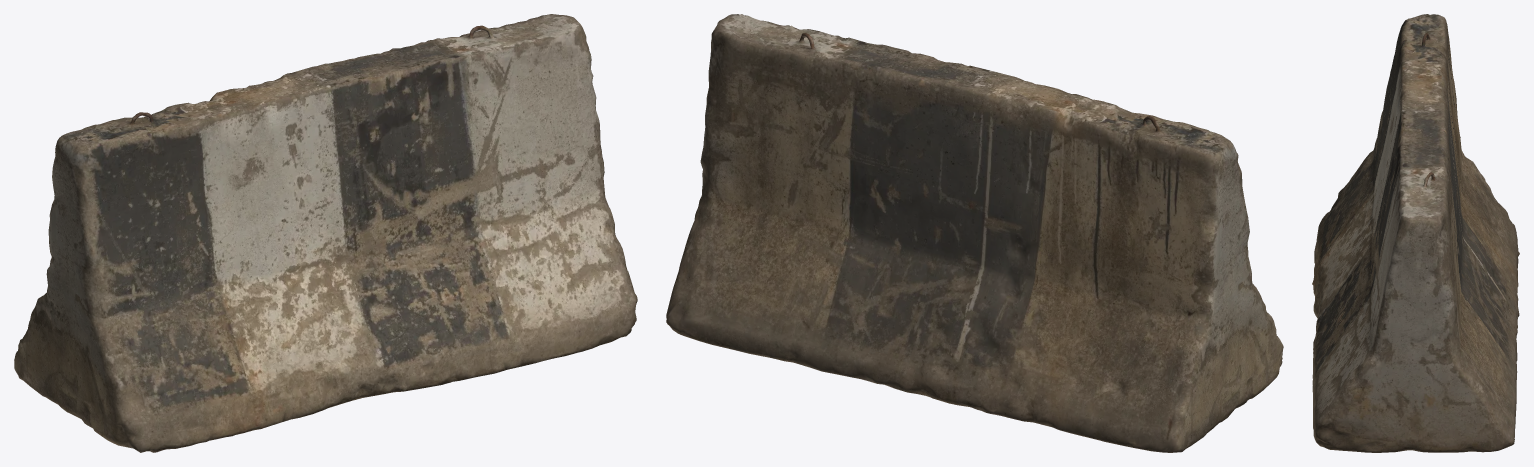
The model's file is ph_concrete_road_barrier.glb.
3 renders of one model, left to right at view 1: azimuth 30°, elevation 25°; view 2: azimuth 150°, elevation 25°; view 3: azimuth 270°, elevation 25°, orthographic. The views are drawn at different scales.
Parts seen in each view (by area): view 1: concrete_road_barrier; view 2: concrete_road_barrier; view 3: concrete_road_barrier.
Part boxes in pixels (x1,y1,x2,y2): concrete_road_barrier: (14, 14, 637, 452); concrete_road_barrier: (666, 14, 1283, 452); concrete_road_barrier: (1312, 14, 1519, 452).
Size of the model in its own units: 1.54 by 0.8303 by 0.6386.
Materials: 1 (1 with a texture image).
